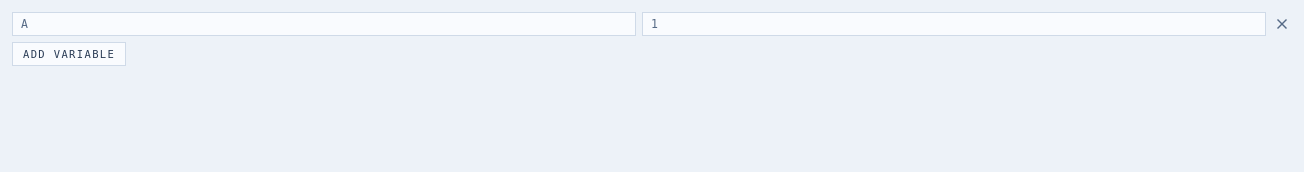
Test: shared shapes › pair_rows_editor_names_each_field
expect the field named "Variable name 1" holds "A": met, box top-left (12, 12), bottom-right (636, 36)
expect the field named "Variable value 1" holds "1": met, box top-left (642, 12), bottom-right (1266, 36)
What coordinates should you click on to do the following:
click the button "Add variable"
I would click on:
 (69, 54)
Its box is top-left (12, 42), bottom-right (126, 66).
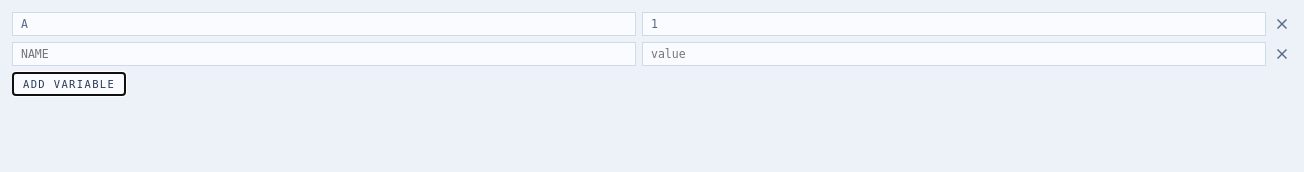
What coordinates should you click on to do the following:
click the button named "Remove variable 1"
I would click on:
 (1282, 24)
Its box is top-left (1272, 14), bottom-right (1292, 34).
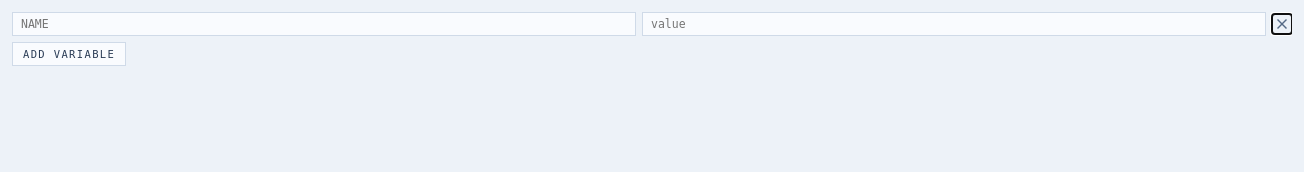
expect the number of fields is 2: met, box top-left (12, 12), bottom-right (636, 36); top-left (642, 12), bottom-right (1266, 36)
